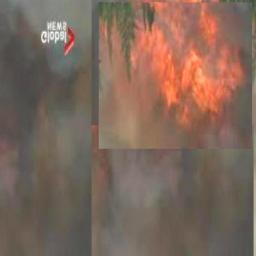Large fire: (105, 3, 255, 133)
Low smoke: (12, 155, 234, 247), (5, 55, 93, 149)
